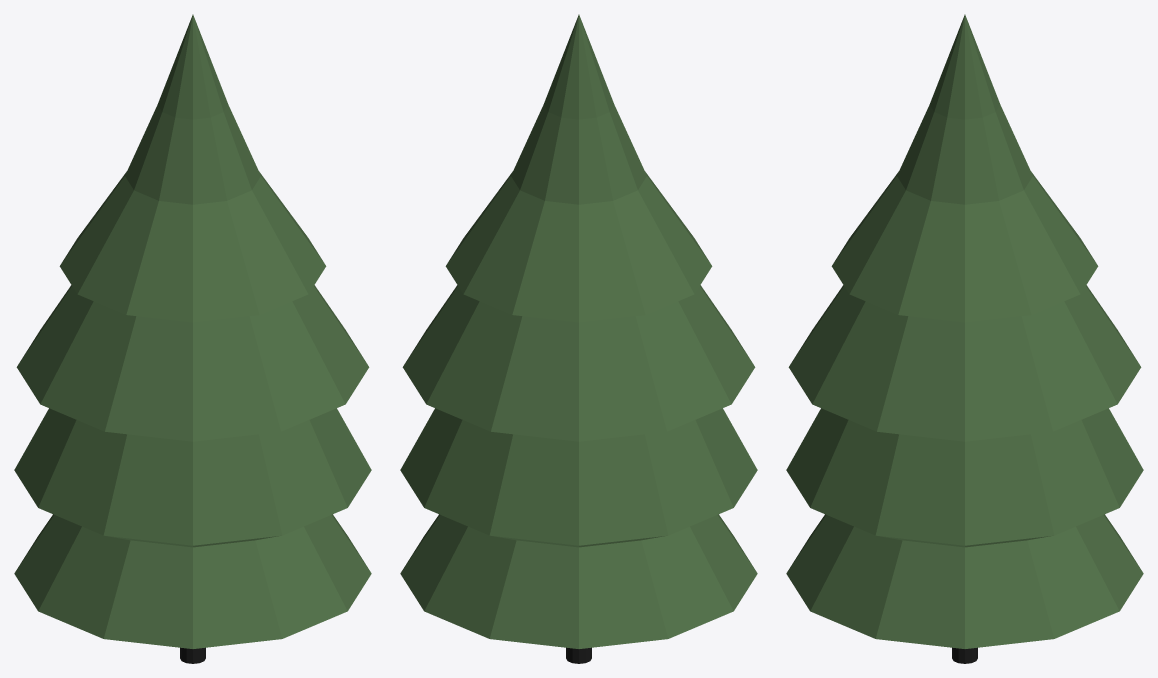
File: crimas.fbx
The picture shows the model from 3 angles, left to right: view 1: azimuth 30°, elevation 25°; view 2: azimuth 150°, elevation 25°; view 3: azimuth 270°, elevation 25°; orthographic projection.
Parts seen in each view (by area): view 1: crimas; view 2: crimas; view 3: crimas.
Part boxes in pixels (x1,y1,x2,y2): crimas: (14, 14, 371, 663); crimas: (400, 14, 757, 663); crimas: (786, 14, 1143, 663).
Bounding box in the file's own units: 1377 × 2738 × 1377.
